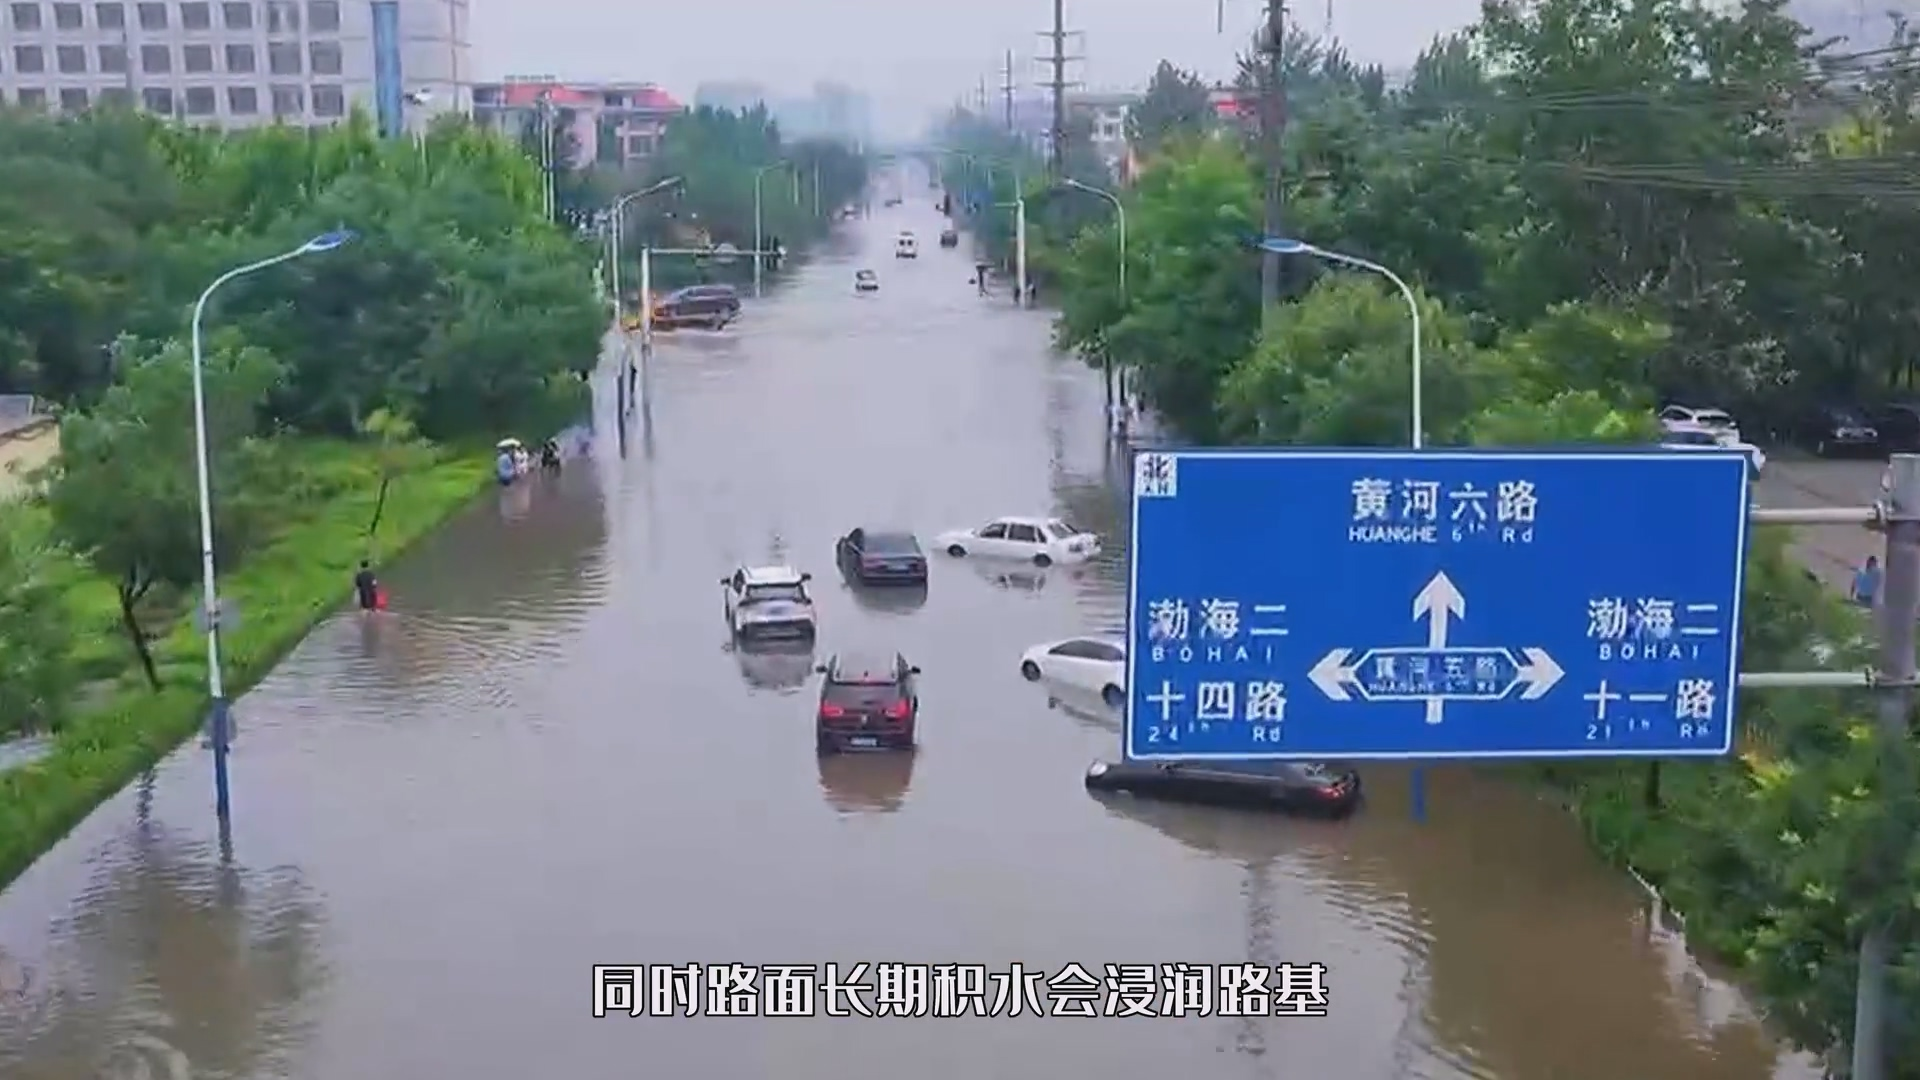puddle: (99, 756, 1695, 1080), (291, 284, 1125, 796)
